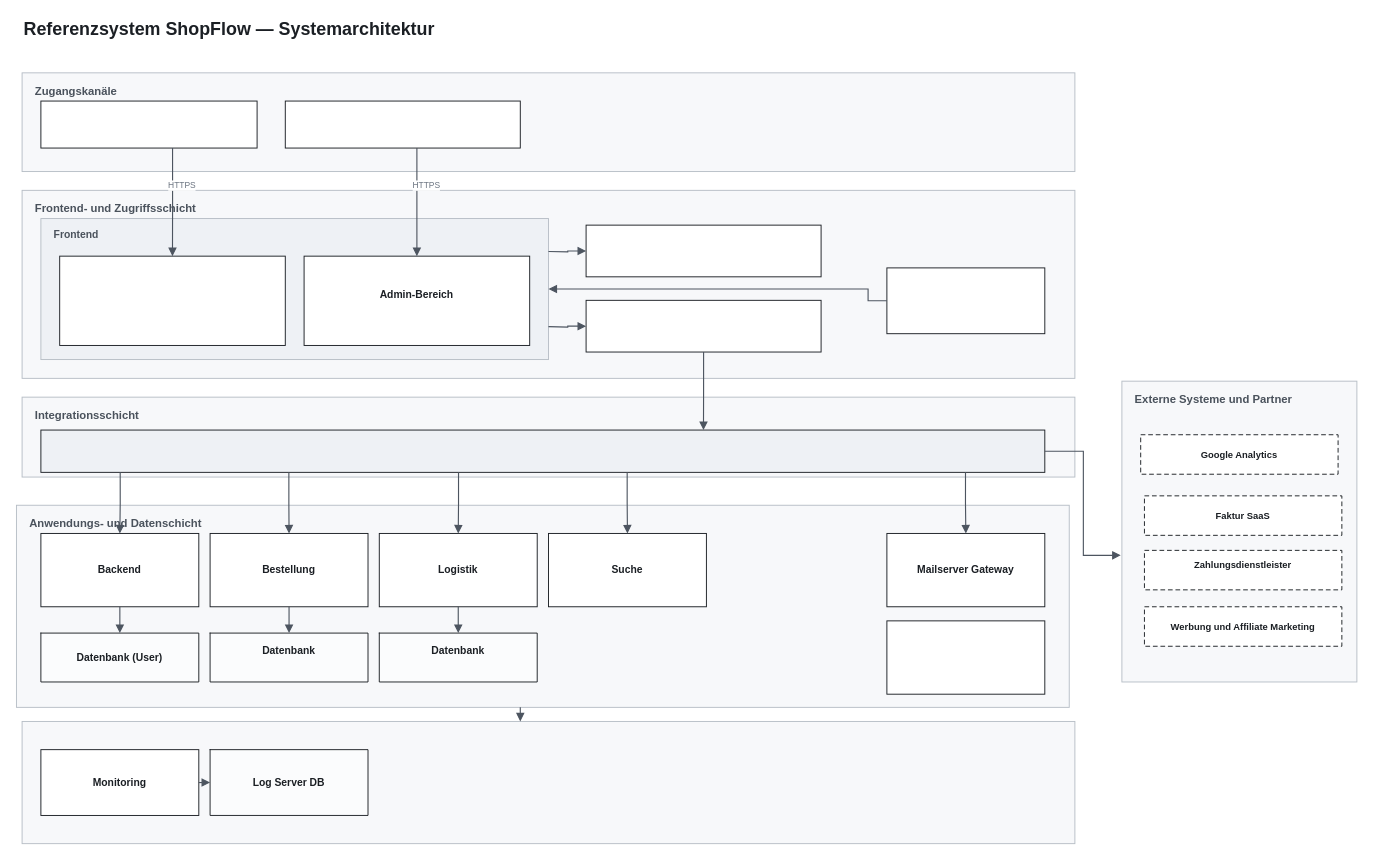
Some shapes in this 1373 by 860 pixel diagram are drawn without their labels. Each missing label, with the box of its shape:
API Gateway (REST): (585, 299, 821, 352)
Authentication: (585, 224, 821, 277)
Betrieb und Überwachung: (21, 721, 1075, 844)
Kunde: (40, 100, 257, 148)
Mailserver: (886, 620, 1045, 694)
Middleware Service: (40, 429, 1045, 472)
Monitoring für Frontend: (886, 267, 1045, 334)
Shop-Administrator: (284, 100, 520, 148)
User-Bereich: (59, 255, 285, 345)
